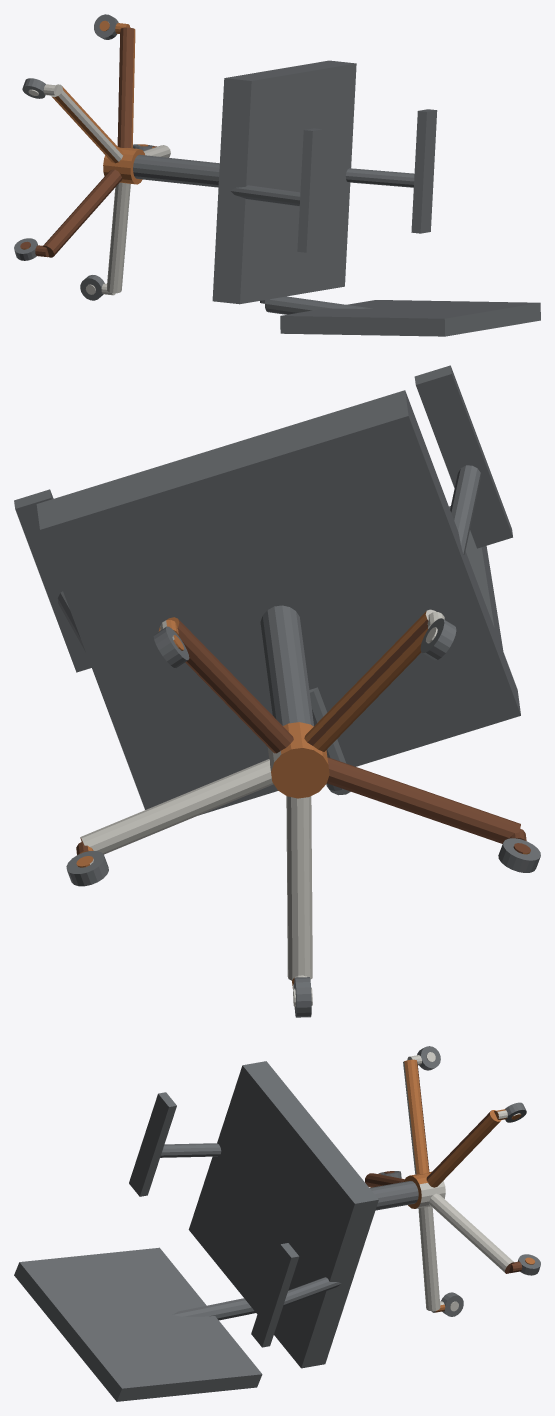
The model's file is hospital__chair_desk_v2.fbx.
3 views of the same model, one above another, from view 1: azimuth 30°, elevation 25°; view 2: azimuth 150°, elevation 25°; view 3: azimuth 270°, elevation 25° (orthographic). The views are drawn at different scales.
Visible parts, largest first — view 1: 06_DoctorDesk_Damaged_Chair; view 2: 06_DoctorDesk_Damaged_Chair; view 3: 06_DoctorDesk_Damaged_Chair.
Boxes of the visible parts, x1,y1,x2,y2 form: 06_DoctorDesk_Damaged_Chair: (14,14,540,336); 06_DoctorDesk_Damaged_Chair: (14,365,540,1017); 06_DoctorDesk_Damaged_Chair: (14,1046,540,1401).
Bounding box in the file's own units: 86.75 × 61.89 × 109.
